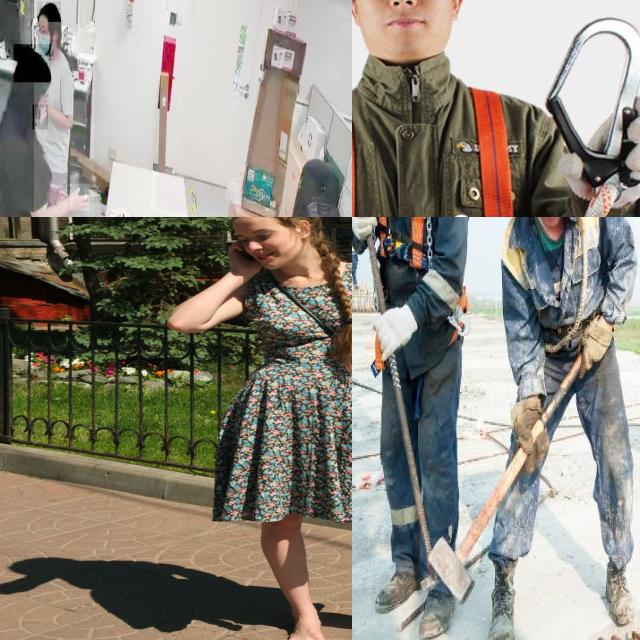Barefoots: (287, 613, 330, 640)
Harness: (352, 82, 541, 217)
boots: (478, 546, 526, 640), (366, 560, 420, 623), (602, 556, 640, 632), (420, 588, 458, 638)
face_mask: (38, 22, 54, 56), (32, 104, 48, 130)
hand_glove: (568, 306, 618, 378), (507, 396, 554, 470), (369, 306, 421, 368), (352, 217, 383, 242)
hand_noglove: (70, 184, 90, 212), (47, 180, 68, 205)
head_nohelmet: (14, 44, 52, 83), (37, 1, 61, 23)
person: (480, 217, 640, 640), (352, 217, 467, 631), (0, 39, 84, 217), (34, 0, 95, 217)
